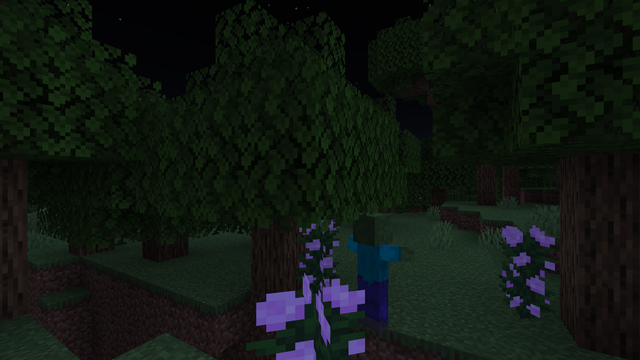zombies: (350, 215, 392, 338)
